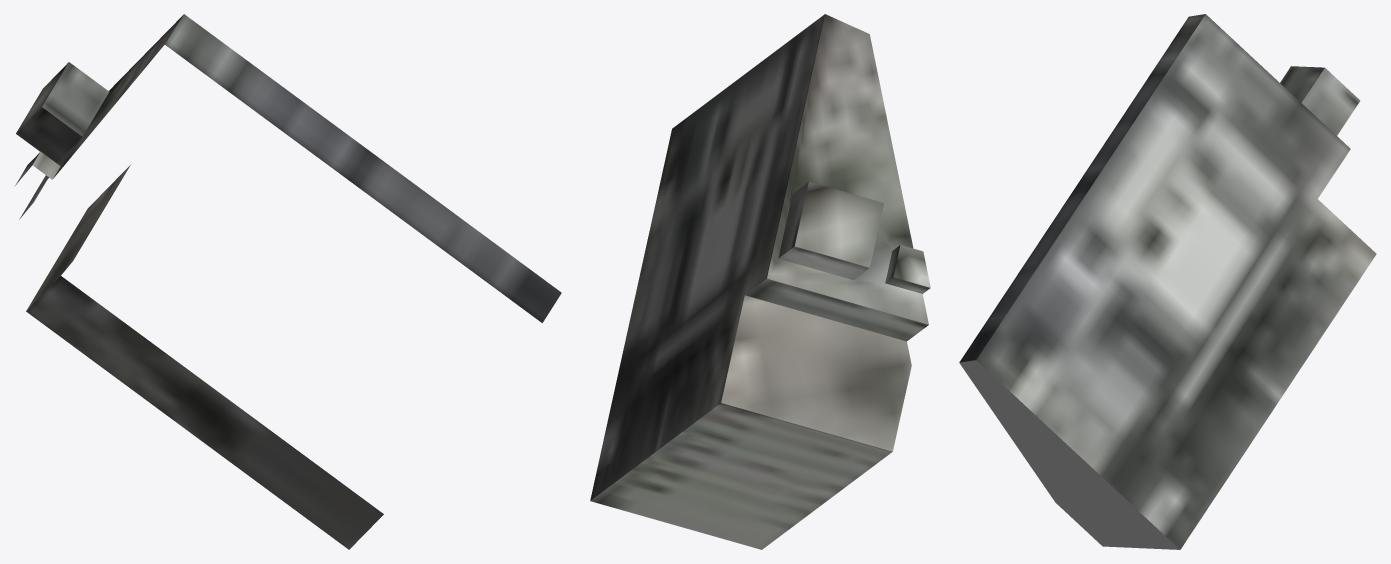
Rendered from 9884_bldg_Building.glb.
The picture shows the model from 3 angles, left to right: view 1: azimuth 30°, elevation 25°; view 2: azimuth 150°, elevation 25°; view 3: azimuth 270°, elevation 25°; orthographic projection. The views are drawn at different scales.
Size of the model in its own units: 28.9 by 37.57 by 29.43.
2 materials, 1 textured.
